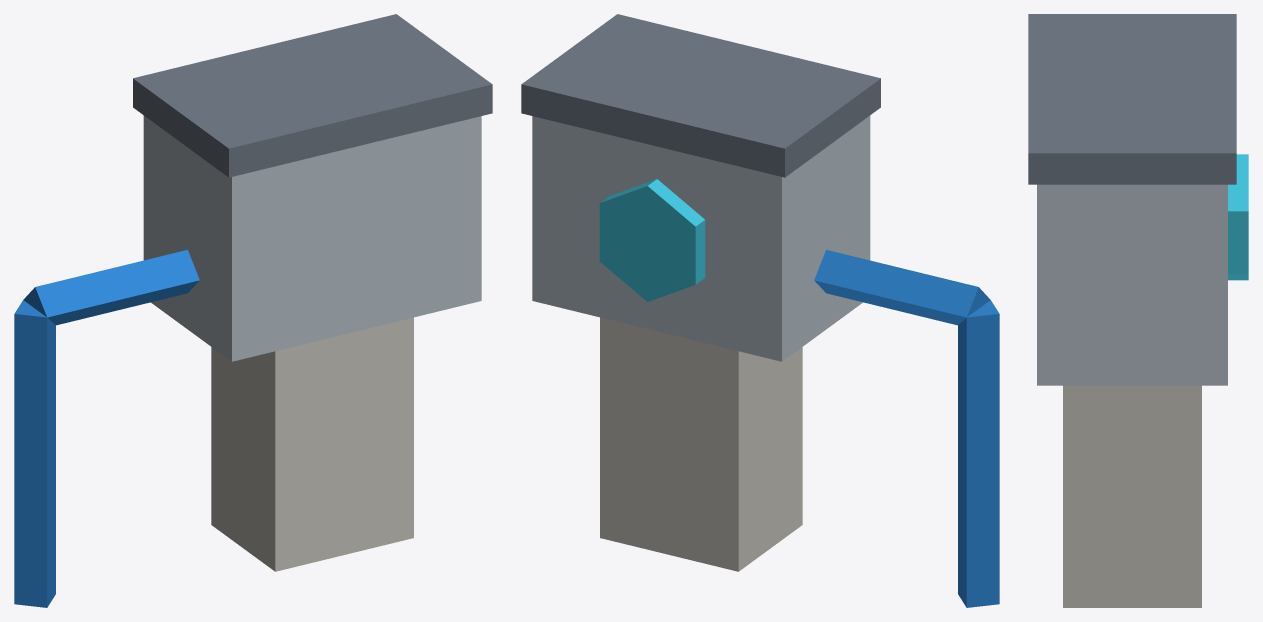
The model's file is hidrometro.glb.
The picture shows the model from 3 angles, left to right: view 1: azimuth 30°, elevation 25°; view 2: azimuth 150°, elevation 25°; view 3: azimuth 270°, elevation 25°; orthographic projection. The views are drawn at different scales.
Visible parts, largest first — view 1: corpo; view 2: corpo; view 3: corpo.
Part boxes in pixels (<box>): corpo: <box>14,14,492,607</box>; corpo: <box>521,14,999,607</box>; corpo: <box>1028,14,1248,607</box>.
Bounding box in the file's own units: 0.31 × 0.31 × 0.127.
